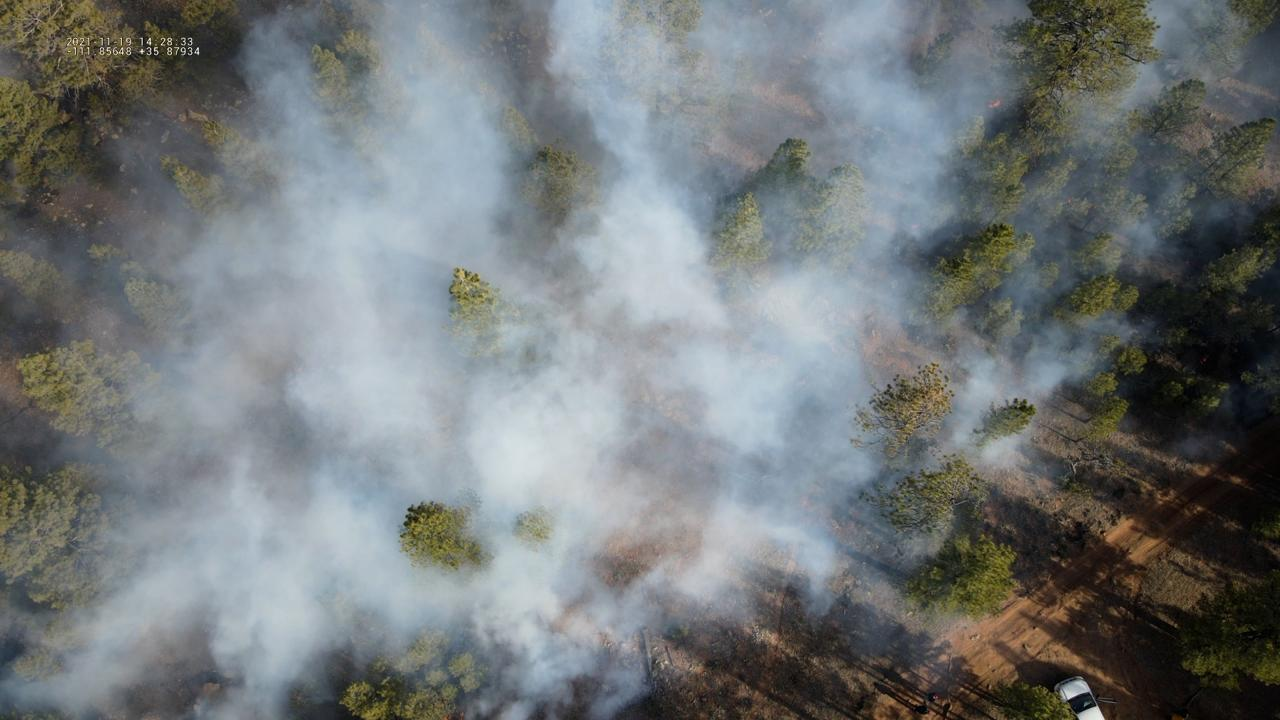fire: (988, 98, 1002, 108)
smoke: (0, 0, 1280, 720)
